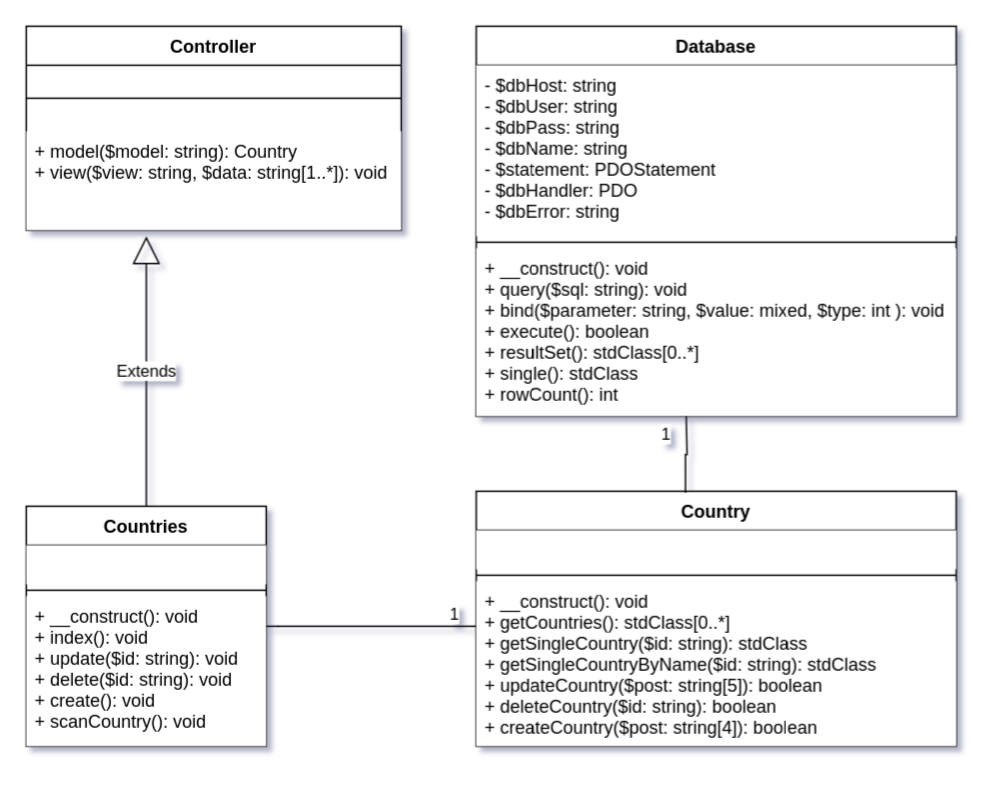
Some shapes in this 992 by 786 pixel diagram are drawn without their labels. The shapes that lost their labels are listed below. From the top down, each one's centre as x and y in pixels, then its label:
(x=146, y=564): + $countryModel: Country
(x=716, y=549): + $db: Database
